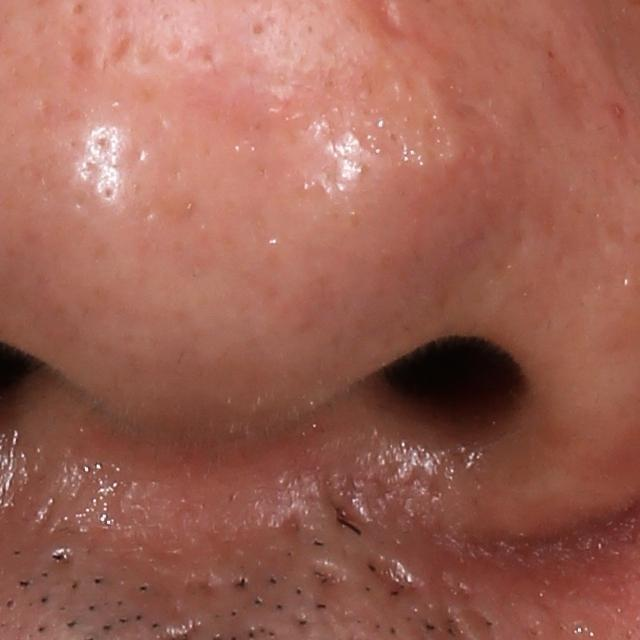atrophic_scar: (436, 73, 495, 133), (366, 553, 422, 596), (325, 480, 371, 529), (104, 23, 142, 72), (308, 560, 351, 600), (277, 509, 308, 545)
comedo: (68, 0, 88, 21), (245, 17, 265, 37)
